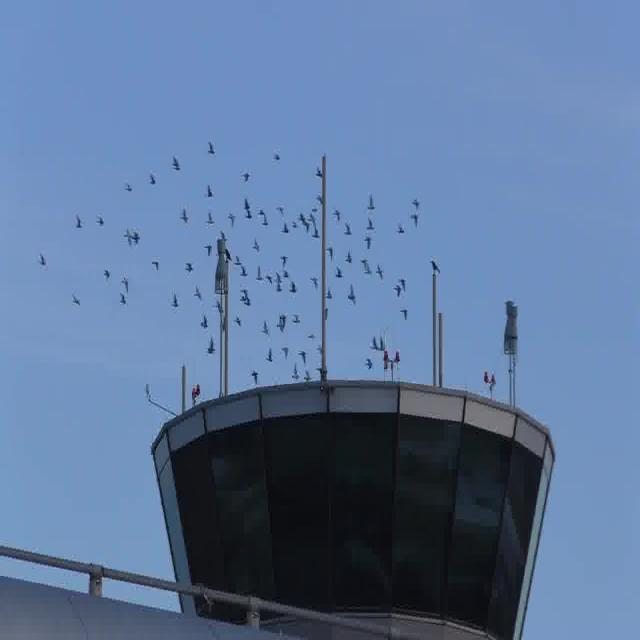bird: (405, 209, 422, 228), (398, 297, 412, 319), (204, 140, 219, 158), (171, 156, 183, 178), (205, 339, 217, 361), (346, 248, 356, 274), (260, 315, 272, 335), (280, 343, 292, 363), (274, 273, 283, 299), (346, 286, 359, 304), (375, 261, 386, 282), (336, 207, 346, 230), (285, 310, 299, 326), (280, 249, 292, 267), (68, 290, 80, 308), (242, 199, 252, 220), (119, 273, 130, 292), (363, 258, 371, 284), (204, 204, 213, 227), (276, 204, 286, 224), (74, 213, 83, 235), (364, 231, 373, 253), (168, 291, 179, 309), (152, 250, 160, 274), (430, 255, 440, 274), (307, 213, 316, 234), (123, 230, 133, 248), (256, 268, 266, 286), (265, 342, 274, 362), (131, 230, 141, 247), (182, 264, 194, 278), (348, 224, 357, 242), (366, 192, 374, 212), (364, 216, 374, 232), (206, 240, 214, 260), (205, 183, 216, 197), (265, 274, 273, 293), (279, 314, 287, 333), (36, 255, 46, 270), (124, 183, 133, 199), (181, 204, 189, 222), (255, 238, 263, 256), (120, 292, 128, 310), (212, 299, 223, 311), (260, 207, 267, 225), (291, 284, 300, 298), (397, 224, 404, 241), (275, 154, 283, 168), (148, 172, 156, 186), (228, 207, 235, 223), (299, 348, 307, 362), (253, 369, 261, 383), (316, 188, 322, 206), (309, 327, 315, 345), (94, 208, 102, 221), (315, 166, 322, 180), (283, 226, 290, 240), (233, 252, 240, 266), (241, 169, 249, 181), (193, 288, 200, 301), (327, 288, 335, 299), (104, 264, 111, 276), (240, 268, 247, 280), (200, 313, 206, 326), (412, 198, 419, 209), (399, 277, 406, 288), (241, 290, 248, 301), (235, 315, 241, 326), (312, 279, 317, 292), (339, 274, 345, 284), (312, 202, 318, 209), (294, 215, 298, 224)
